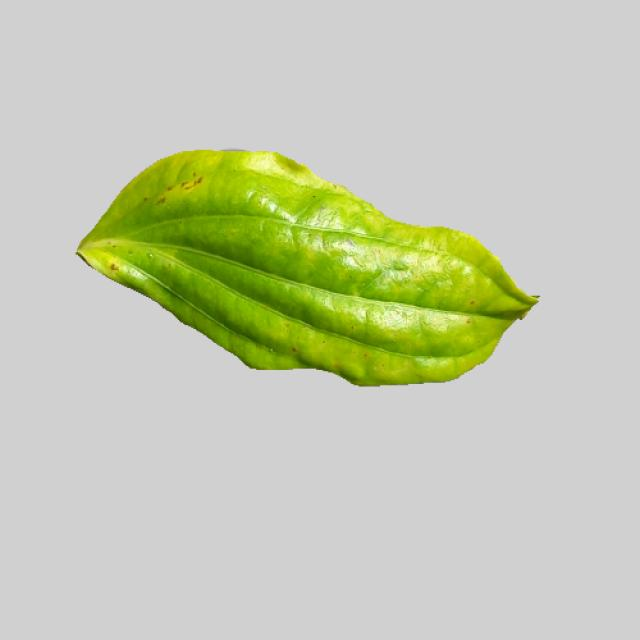yellow-mottle-virus: (77, 150, 535, 378)
